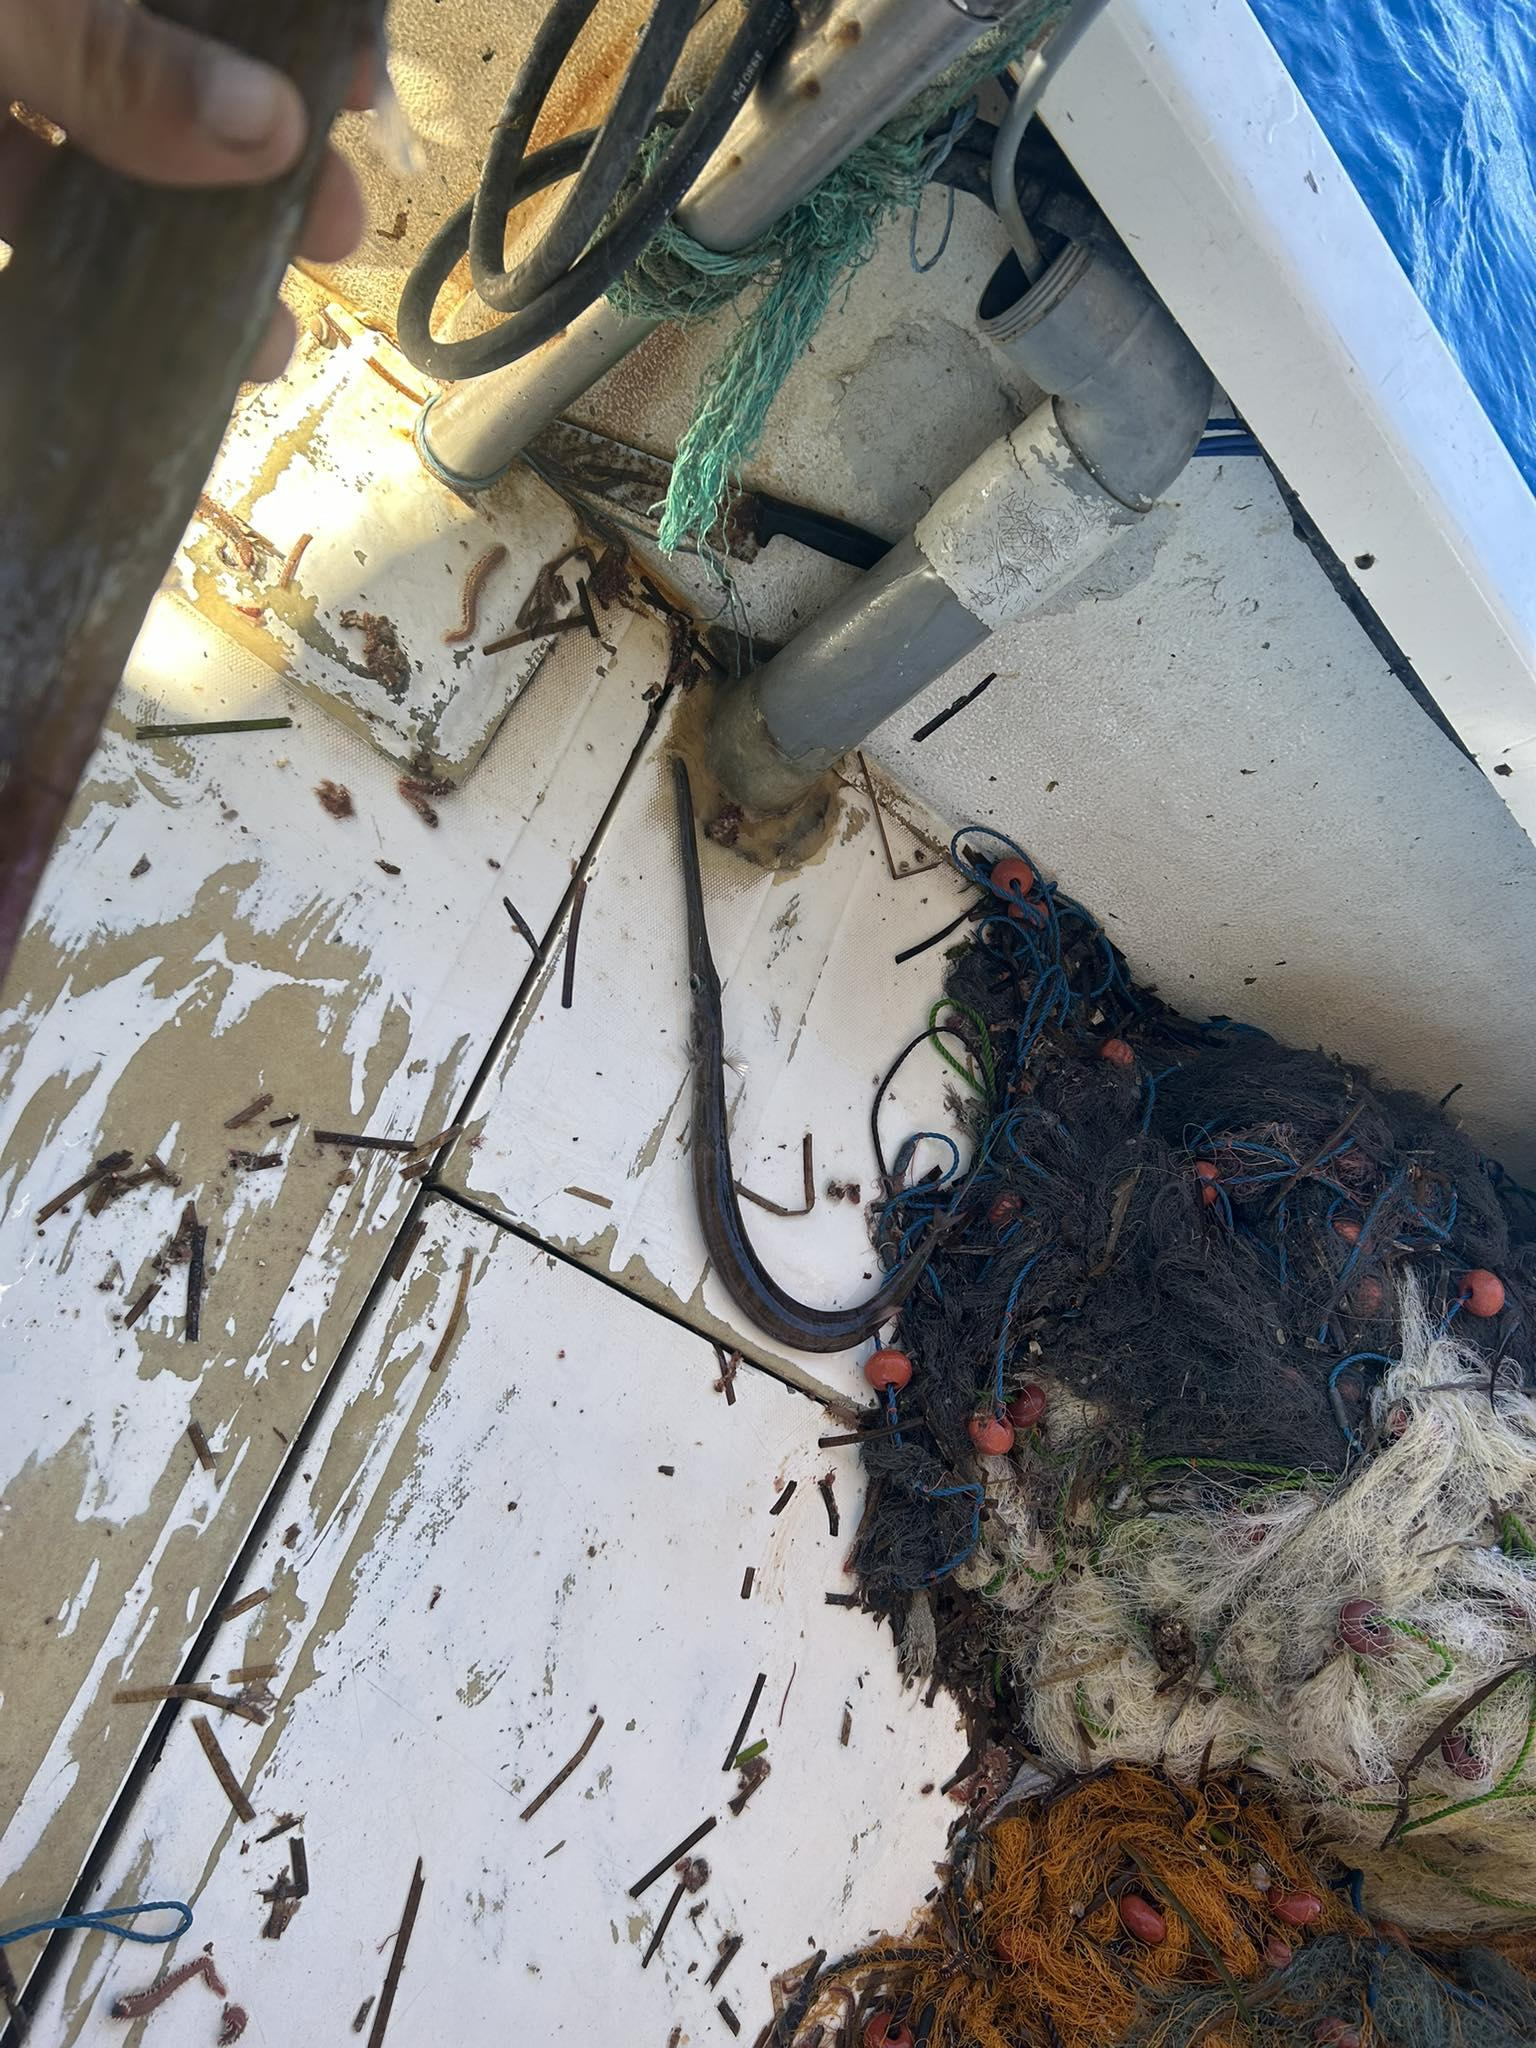Fistularia commersonii: (597, 723, 1033, 1417)
